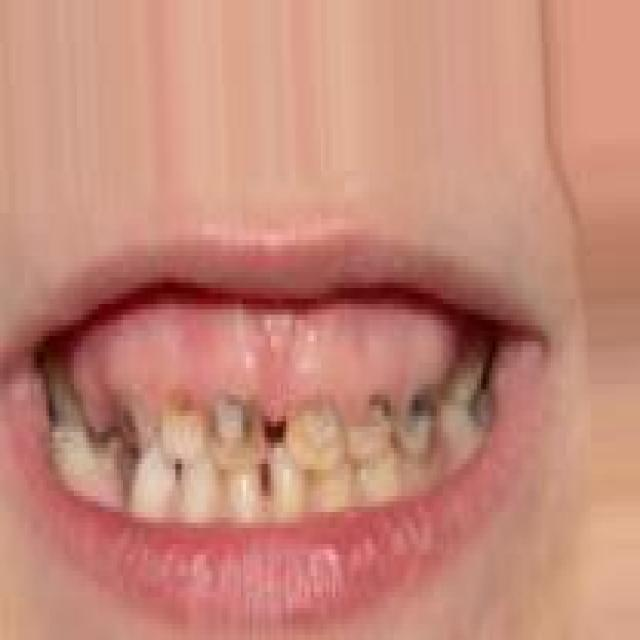caries: (213, 380, 266, 476), (282, 392, 345, 472), (347, 390, 399, 466), (100, 393, 158, 460), (439, 359, 495, 428), (164, 390, 210, 469), (404, 381, 438, 468)
